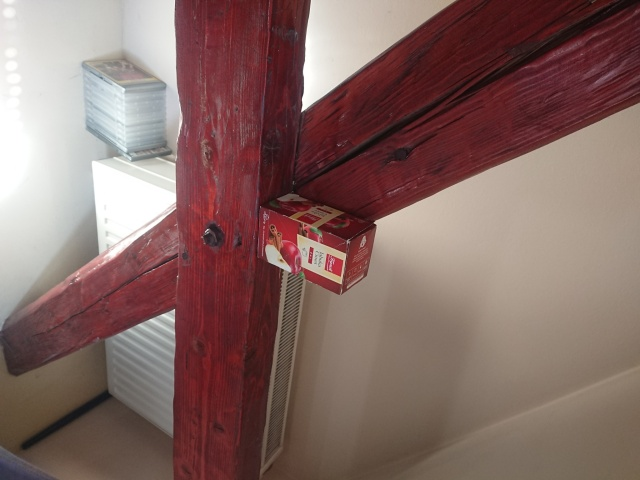Franck Apple Cinnamon Tea 60g: (253, 189, 377, 296)
